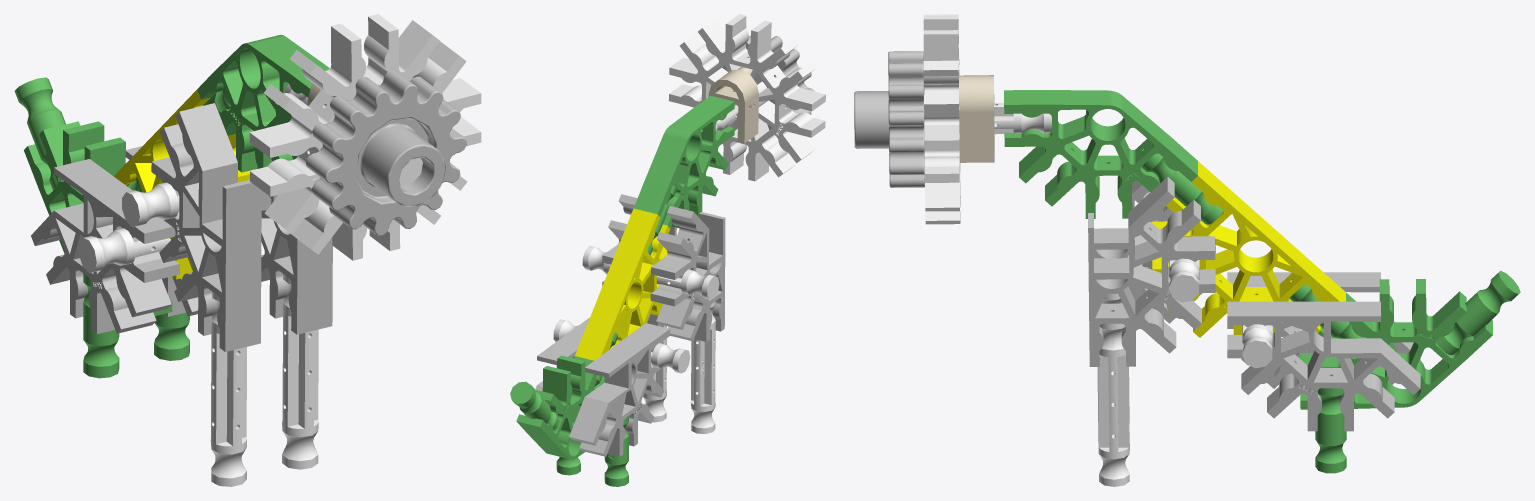
Rendered from Lion.glb.
3 views of the same model, side by side, from view 1: azimuth 30°, elevation 25°; view 2: azimuth 150°, elevation 25°; view 3: azimuth 270°, elevation 25° (orthographic). The views are drawn at different scales.
Parts seen in each view (by area): view 1: Leon; view 2: Leon; view 3: Leon.
Part boxes in pixels (x1,y1,x2,y2): Leon: (14,14,481,486); Leon: (510,14,825,486); Leon: (854,14,1520,486).
Size of the model in its own units: 2.36 by 5.52 by 7.56.
